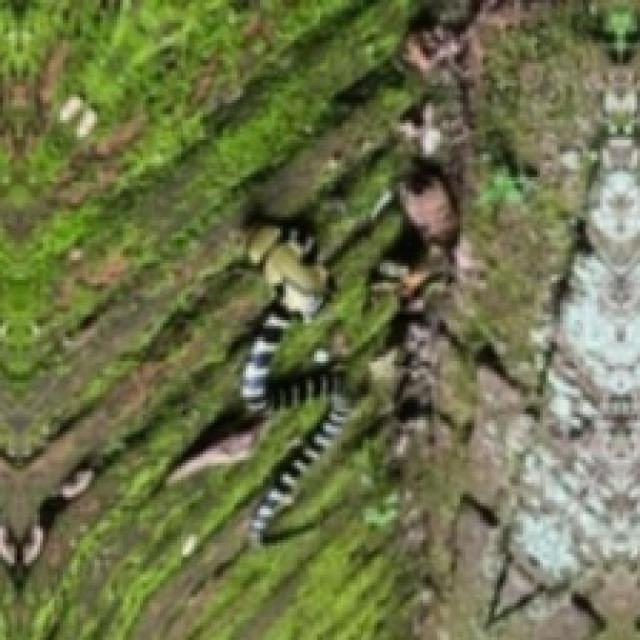king cobra: (240, 220, 350, 542)
